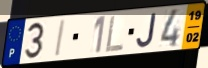1: (92, 14, 107, 56)
3: (22, 20, 47, 62)
4: (159, 8, 182, 49)
I: (53, 19, 67, 59)
J: (135, 12, 158, 49)
L: (104, 14, 125, 54)
